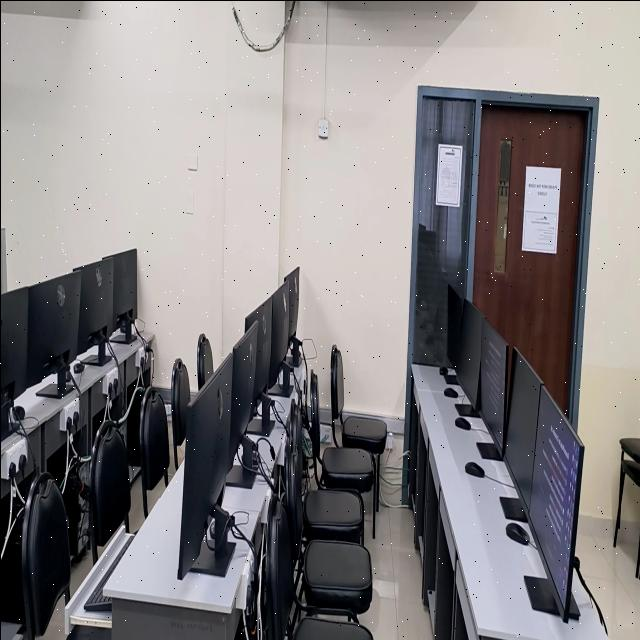Chair: (258, 492, 372, 640), (284, 446, 371, 618), (21, 471, 70, 640), (309, 370, 372, 492), (330, 344, 388, 454), (90, 421, 130, 544), (139, 385, 168, 517), (302, 487, 363, 544), (170, 358, 189, 469), (196, 332, 213, 387)
Monitor: (176, 352, 232, 578), (528, 386, 581, 607), (503, 347, 541, 512), (26, 271, 80, 384), (228, 324, 257, 465), (477, 318, 507, 453), (73, 260, 112, 360), (452, 300, 484, 408), (0, 288, 27, 405), (244, 296, 271, 405), (269, 281, 288, 384), (446, 283, 466, 369), (284, 266, 299, 338), (114, 260, 131, 297), (263, 410, 269, 433), (132, 265, 135, 297)
Mouse: (505, 522, 529, 543), (464, 461, 484, 476), (454, 415, 470, 429), (443, 386, 457, 397), (439, 366, 447, 374)
